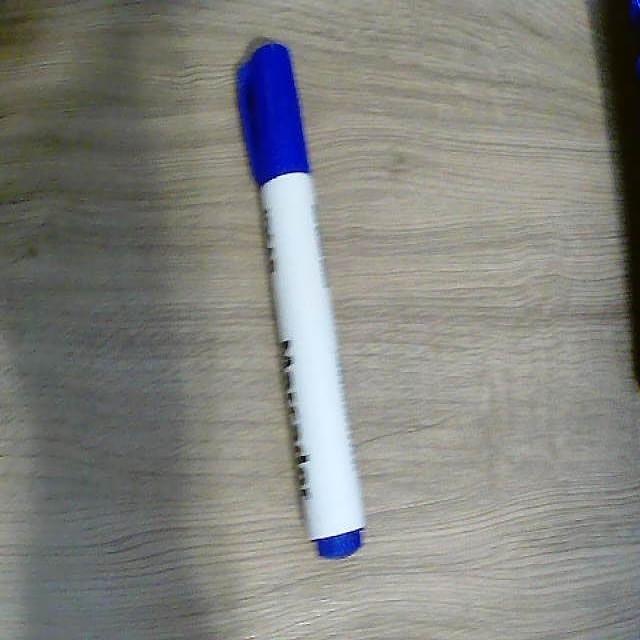caneta: (214, 32, 390, 571)
